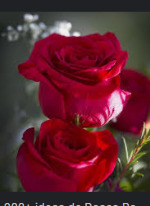RedRose: (13, 29, 133, 125), (8, 118, 121, 204)
